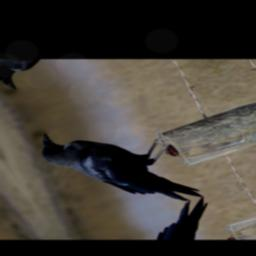Crow: (27, 102, 207, 230)
